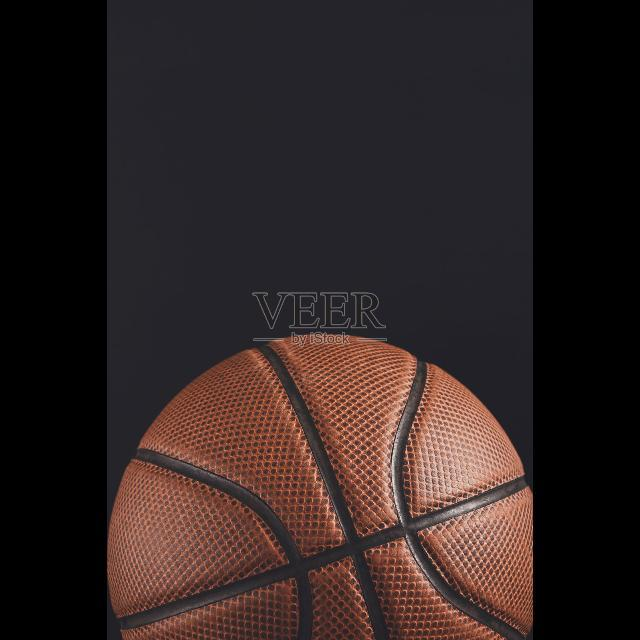basketball: (112, 334, 534, 640)
